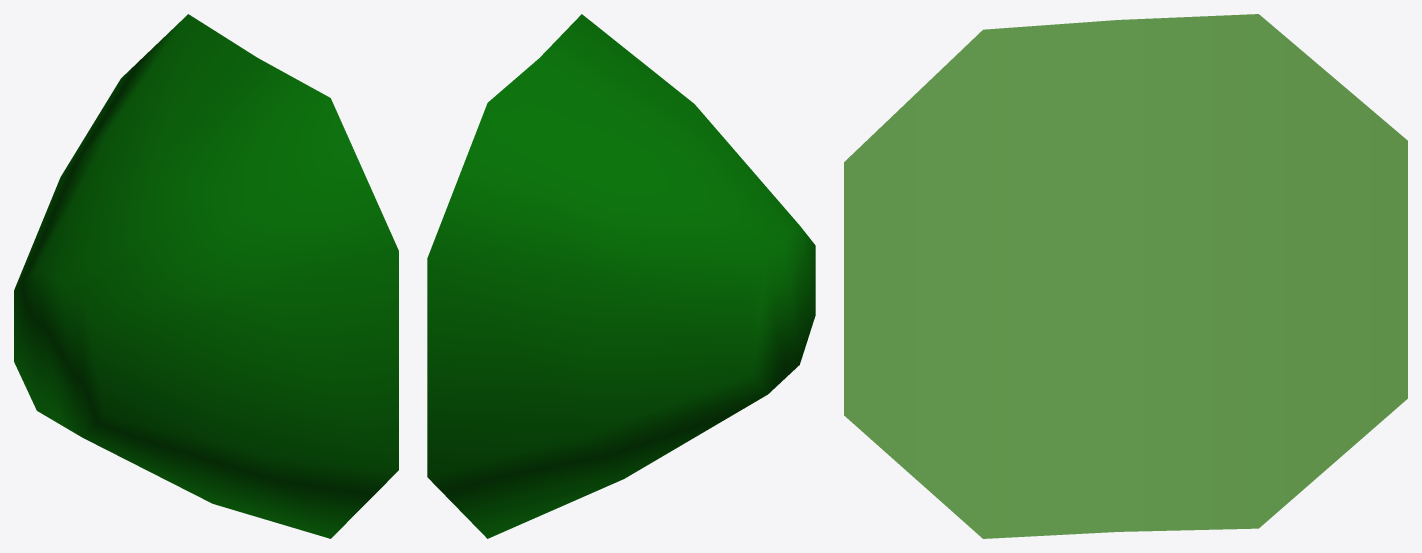
Rendered from mesh_CucumberSlice_Stage02.fbx.
3 views of the same model, side by side, from view 1: azimuth 30°, elevation 25°; view 2: azimuth 150°, elevation 25°; view 3: azimuth 270°, elevation 25° (orthographic). The views are drawn at different scales.
Parts seen in each view (by area): view 1: mesh_CucumberSlice_Stage02; view 2: mesh_CucumberSlice_Stage02; view 3: mesh_CucumberSlice_Stage02.
Boxes of the visible parts, bbox=[...] form: mesh_CucumberSlice_Stage02: bbox=[14, 14, 398, 538]; mesh_CucumberSlice_Stage02: bbox=[427, 14, 815, 538]; mesh_CucumberSlice_Stage02: bbox=[844, 14, 1407, 538].
Size of the model in its own units: 0.0173 by 0.0291 by 0.0289.
